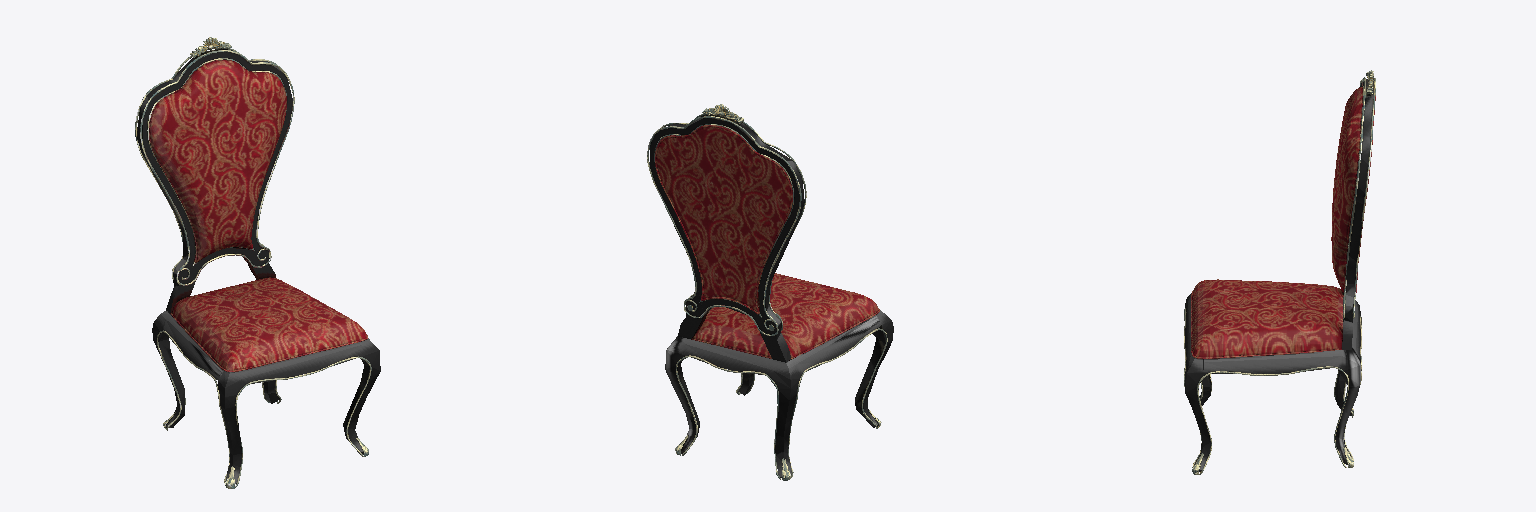
The picture shows the model from 3 angles: view 1: azimuth 30°, elevation 25°; view 2: azimuth 150°, elevation 25°; view 3: azimuth 270°, elevation 25°; orthographic projection.
Visible parts, largest first — view 1: solid_001, solid_003, solid_002; view 2: solid_001, solid_003, solid_002; view 3: solid_001, solid_003, solid_002.
Part boxes in pixels (bbox=[...]): solid_001: bbox=[149, 59, 367, 371]; solid_003: bbox=[137, 49, 380, 483]; solid_002: bbox=[135, 37, 371, 488]; solid_001: bbox=[655, 125, 879, 360]; solid_003: bbox=[650, 114, 893, 477]; solid_002: bbox=[647, 104, 887, 480]; solid_001: bbox=[1191, 87, 1375, 358]; solid_003: bbox=[1185, 79, 1373, 471]; solid_002: bbox=[1184, 70, 1375, 474].
Size of the model in its own units: 0.7175 by 1.62 by 0.7612.
Materials: 1 (1 with a texture image).